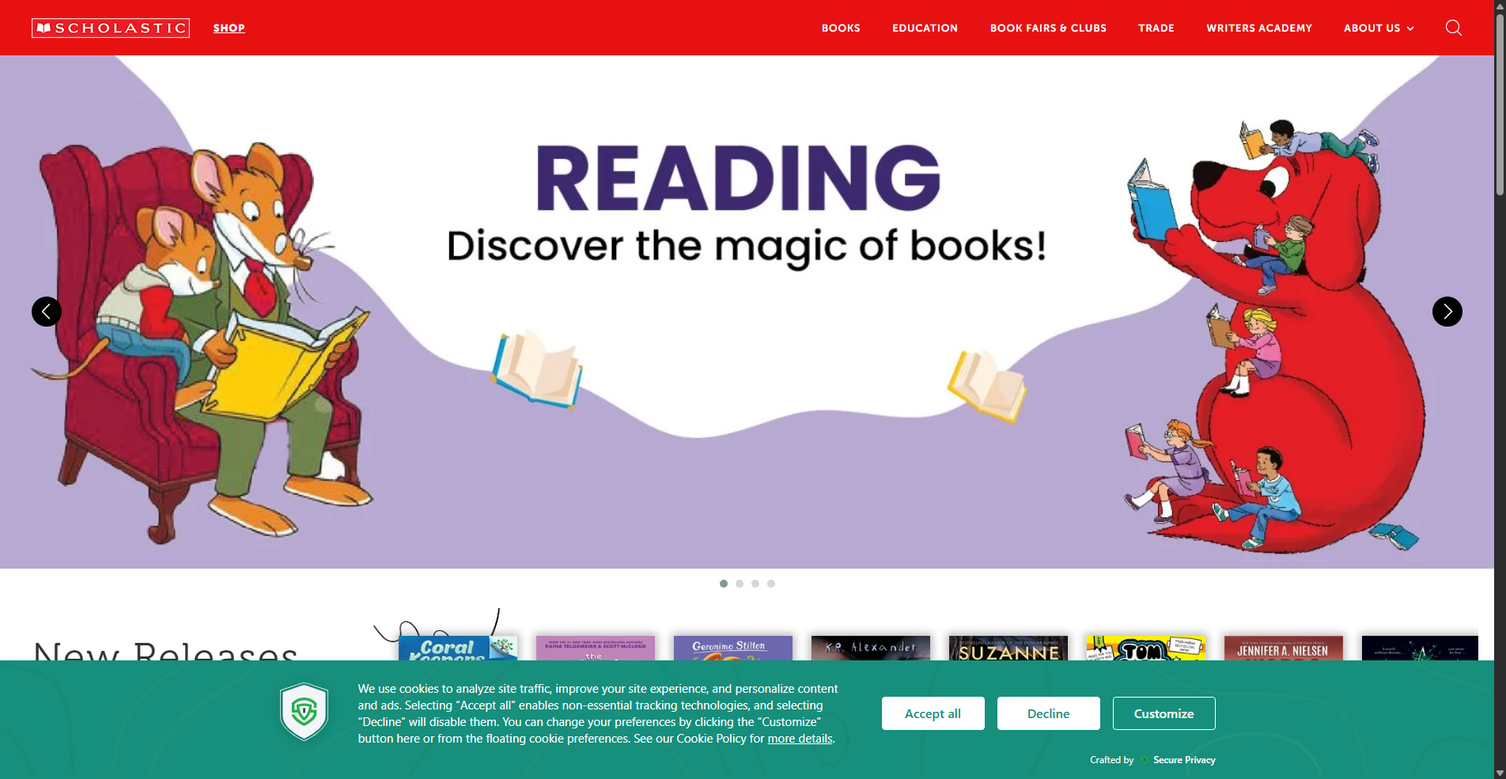button: (32, 737, 374, 768), (719, 580, 727, 588), (735, 580, 743, 588), (751, 580, 759, 588), (767, 580, 775, 588)
dropdown: (1329, 11, 1430, 44)
link: (0, 55, 1494, 569), (261, 636, 380, 779), (536, 636, 655, 779), (674, 636, 793, 779), (949, 636, 1068, 779), (1087, 636, 1206, 779), (1362, 636, 1481, 779), (124, 636, 242, 779), (399, 636, 517, 779), (812, 636, 930, 779), (1225, 636, 1343, 779), (0, 636, 105, 779), (1494, 55, 1506, 569), (974, 11, 1123, 44), (1191, 11, 1329, 44), (32, 737, 156, 768), (1329, 11, 1430, 44), (877, 11, 974, 44), (32, 18, 190, 38), (806, 11, 877, 44), (1123, 11, 1191, 44), (198, 12, 261, 44), (1500, 636, 1506, 779)
slider: (0, 55, 1494, 569), (1494, 55, 1506, 569)
